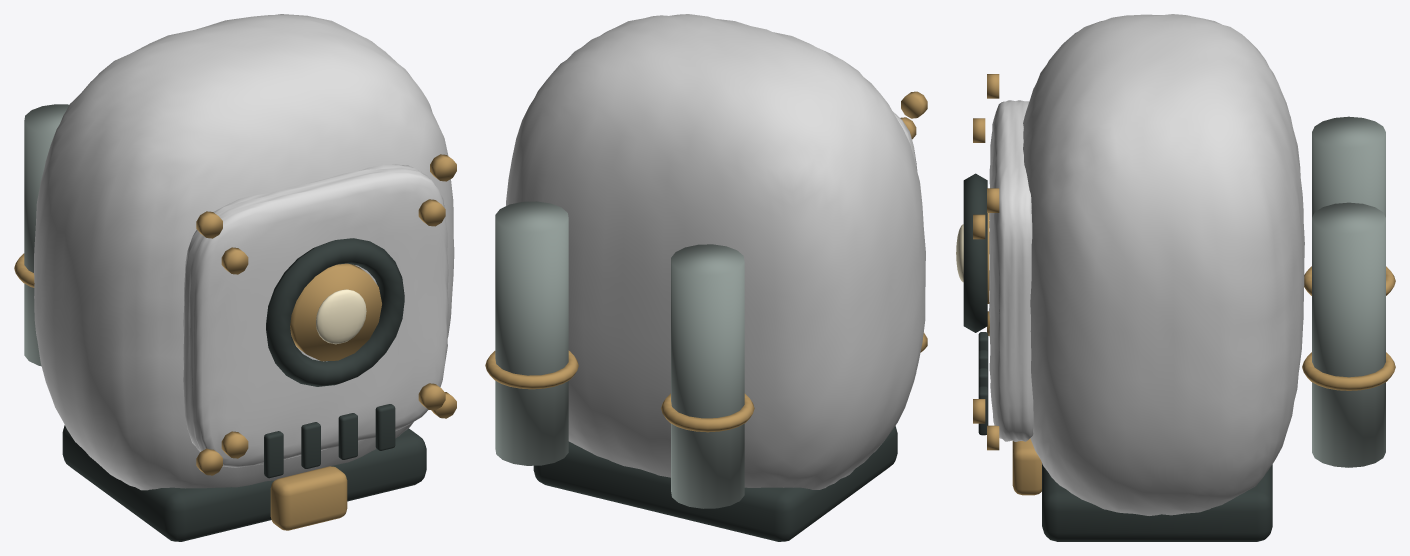
File: deadeye-torso-1.glb
3 renders of one model, left to right at view 1: azimuth 30°, elevation 25°; view 2: azimuth 150°, elevation 25°; view 3: azimuth 270°, elevation 25°, orthographic.
Parts seen in each view (by area): view 1: torso_clay, torso_mechanism, torso_brass, torso_steel, torso_lens; view 2: torso_clay, torso_steel, torso_mechanism, torso_brass; view 3: torso_clay, torso_steel, torso_mechanism, torso_brass.
Part boxes in pixels (x1,y1,x2,y2): torso_clay: [34, 14, 454, 490]; torso_mechanism: [62, 238, 426, 541]; torso_brass: [14, 154, 456, 530]; torso_steel: [24, 104, 69, 366]; torso_lens: [316, 289, 366, 344]; torso_clay: [506, 14, 925, 489]; torso_steel: [495, 201, 744, 508]; torso_mechanism: [533, 426, 897, 541]; torso_brass: [485, 91, 927, 432]; torso_clay: [989, 14, 1304, 515]; torso_steel: [1312, 116, 1385, 467]; torso_mechanism: [963, 173, 1272, 541]; torso_brass: [973, 74, 1395, 495].
Size of the model in its own units: 1.08 by 1.24 by 1.12.
